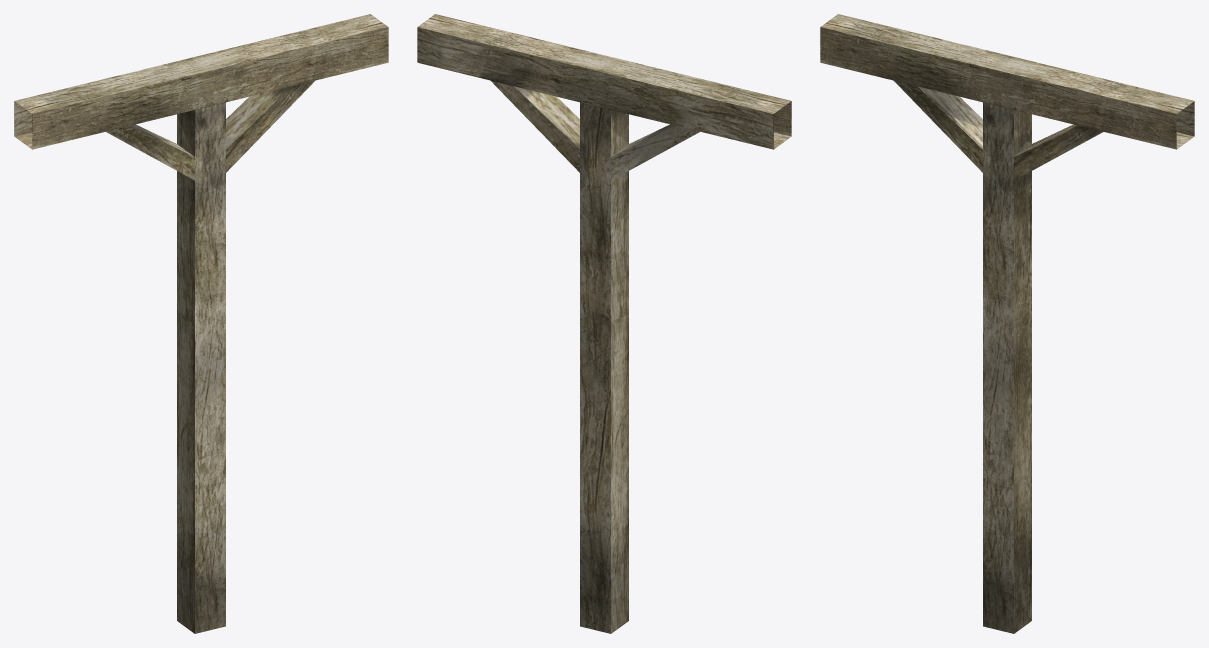
The model's file is Pilar.fbx.
The picture shows the model from 3 angles, left to right: view 1: azimuth 30°, elevation 25°; view 2: azimuth 150°, elevation 25°; view 3: azimuth 330°, elevation 25°; orthographic projection.
Parts seen in each view (by area): view 1: Plane.006; view 2: Plane.006; view 3: Plane.006.
Part boxes in pixels (x1,y1,x2,y2): Plane.006: (14,14,388,633); Plane.006: (417,14,791,633); Plane.006: (820,14,1194,633).
Size of the model in its own units: 4 by 6 by 0.3492.
